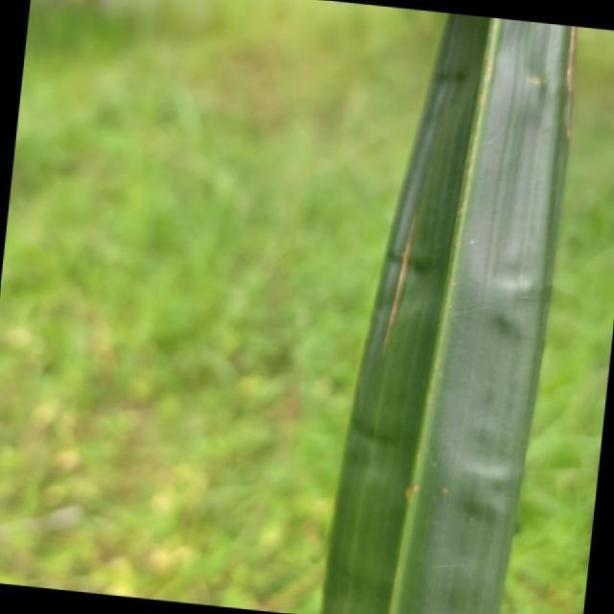Boron: (322, 0, 572, 614)
